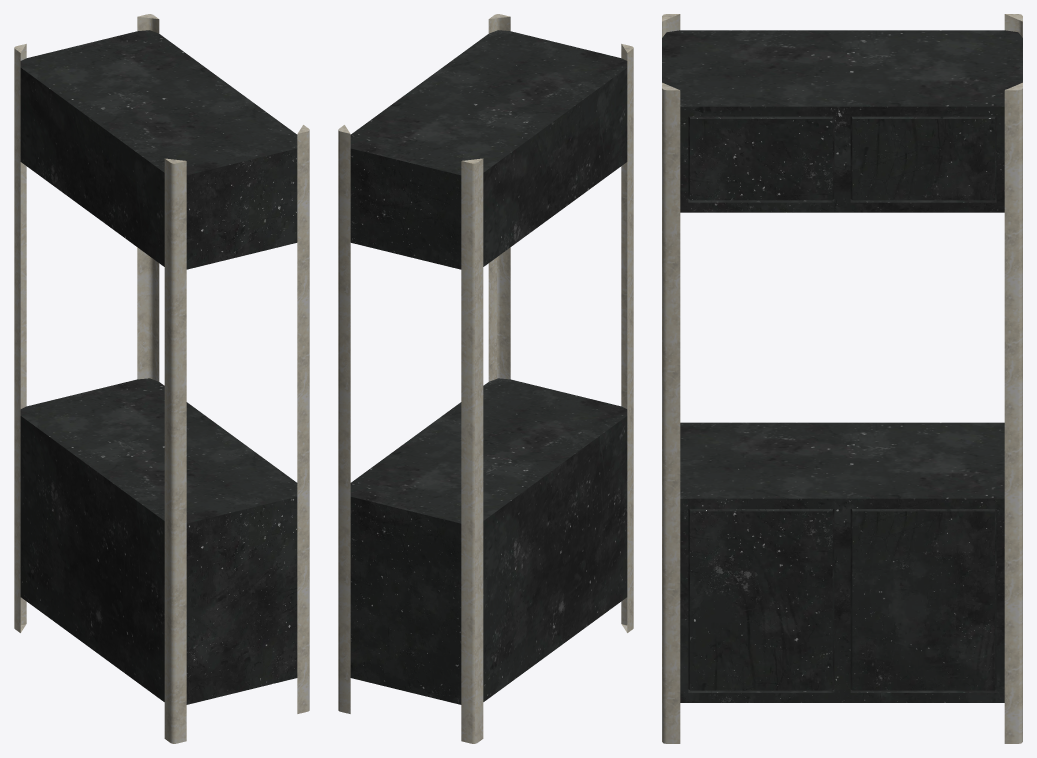
The model's file is shelf4.glb.
The picture shows the model from 3 angles, left to right: view 1: azimuth 30°, elevation 25°; view 2: azimuth 150°, elevation 25°; view 3: azimuth 270°, elevation 25°; orthographic projection. The views are drawn at different scales.
Visible parts, largest first — view 1: shelf4; view 2: shelf4; view 3: shelf4.
Boxes of the visible parts, x1,y1,x2,y2 form: shelf4: (14, 14, 309, 743); shelf4: (338, 14, 633, 743); shelf4: (662, 14, 1022, 743).
Size of the model in its own units: 0.5 by 2 by 1.
2 materials, 2 textured.
